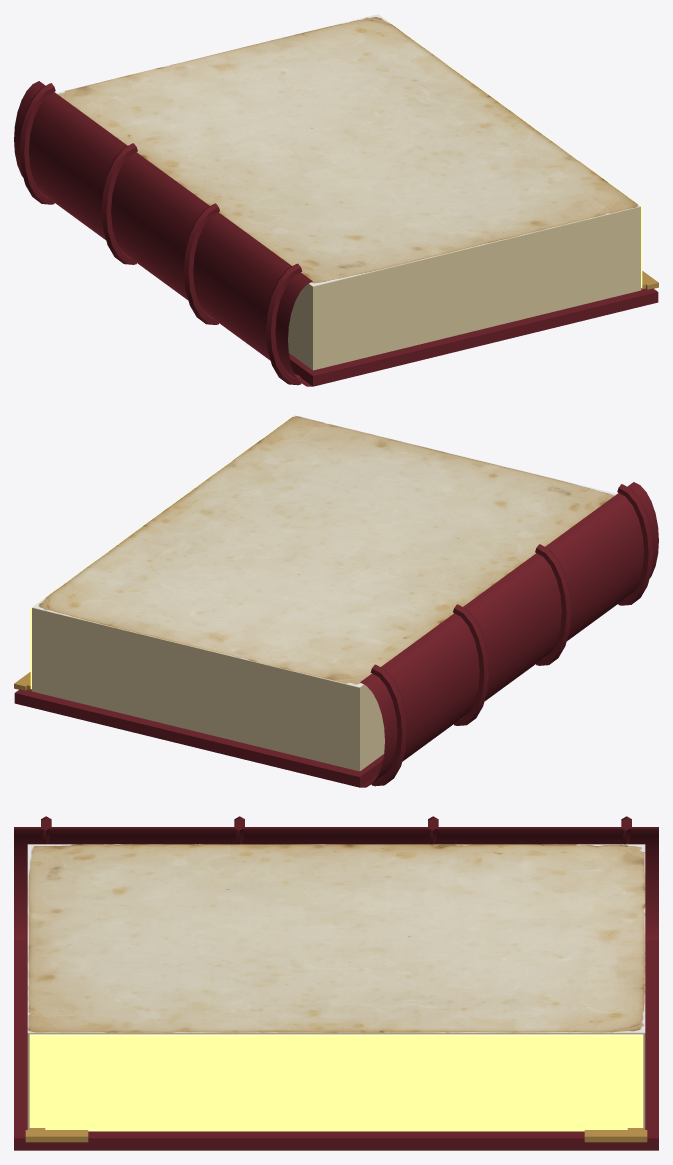
The model's file is sealed_book_body.glb.
3 views of the same model, one above another, from view 1: azimuth 30°, elevation 25°; view 2: azimuth 150°, elevation 25°; view 3: azimuth 270°, elevation 25° (orthographic). The views are drawn at different scales.
Parts seen in each view (by area): view 1: sealed_book_body; view 2: sealed_book_body; view 3: sealed_book_body.
Boxes of the visible parts, x1,y1,x2,y2 form: sealed_book_body: [14, 14, 658, 386]; sealed_book_body: [14, 415, 658, 787]; sealed_book_body: [14, 816, 658, 1150].
Bounding box in the file's own units: 1.34 × 0.4047 × 1.65.
5 materials, 1 textured.
